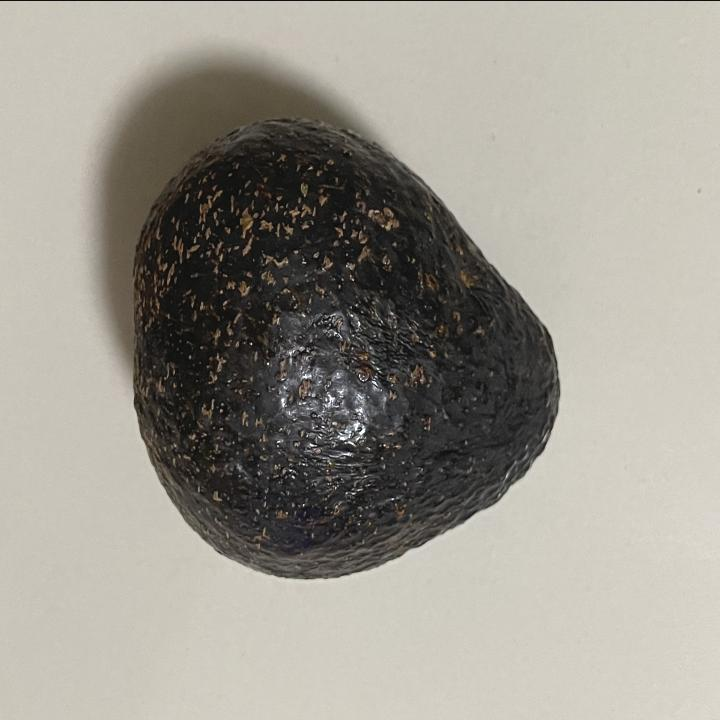Level3: (124, 104, 570, 592)
